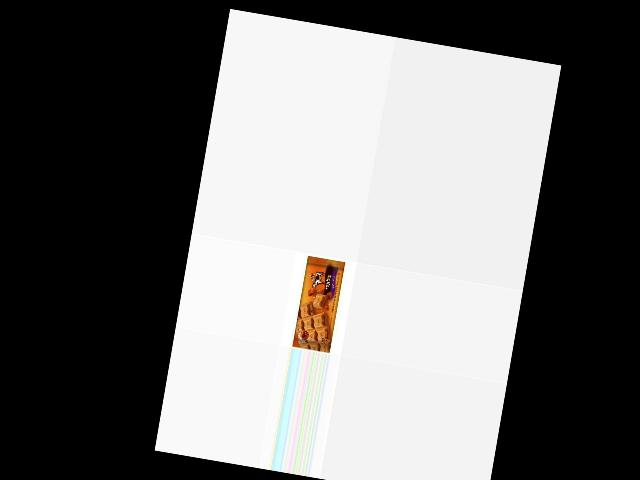chocolate: (292, 253, 348, 353)
